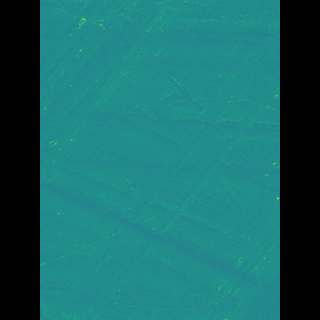Loch: (79, 20, 251, 319), (69, 0, 179, 184)
